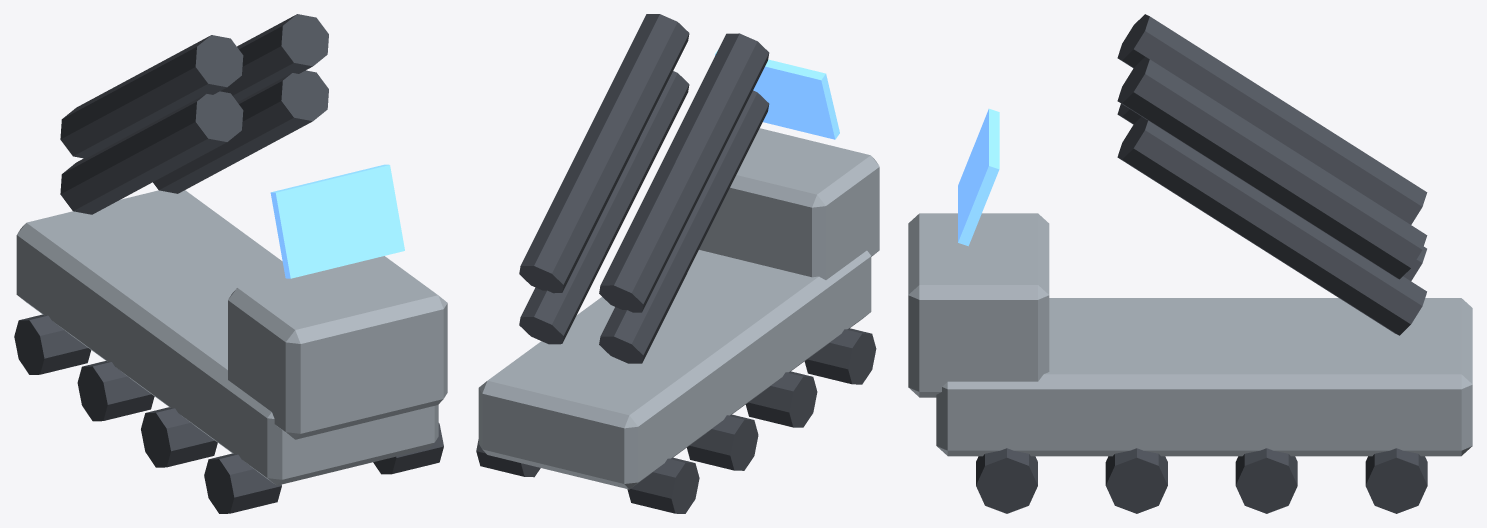
The model's file is sam.glb.
3 views of the same model, side by side, from view 1: azimuth 30°, elevation 25°; view 2: azimuth 150°, elevation 25°; view 3: azimuth 270°, elevation 25° (orthographic). The views are drawn at different scales.
Visible parts, largest first — view 1: sam; view 2: sam; view 3: sam.
Boxes of the visible parts, box(x1,y1,x2,y2) form: sam: box(14, 14, 447, 513); sam: box(476, 14, 879, 513); sam: box(908, 14, 1472, 513).
Size of the model in its own units: 0.44 by 0.828 by 1.
